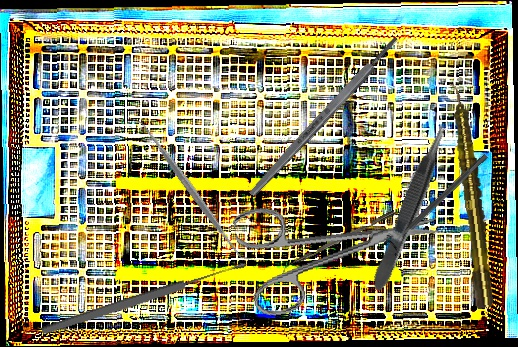Chopper: (278, 210, 399, 276)
Fixation Ring: (381, 148, 494, 257)
Handpiece: (447, 81, 496, 310)
Iris Scissors: (231, 174, 449, 322)
Scalpel Handle: (246, 34, 402, 199)
Spatula Surgical: (130, 111, 255, 271)
Surgical Spoon: (40, 259, 248, 337)
Tissue Forceps: (365, 120, 456, 294)
